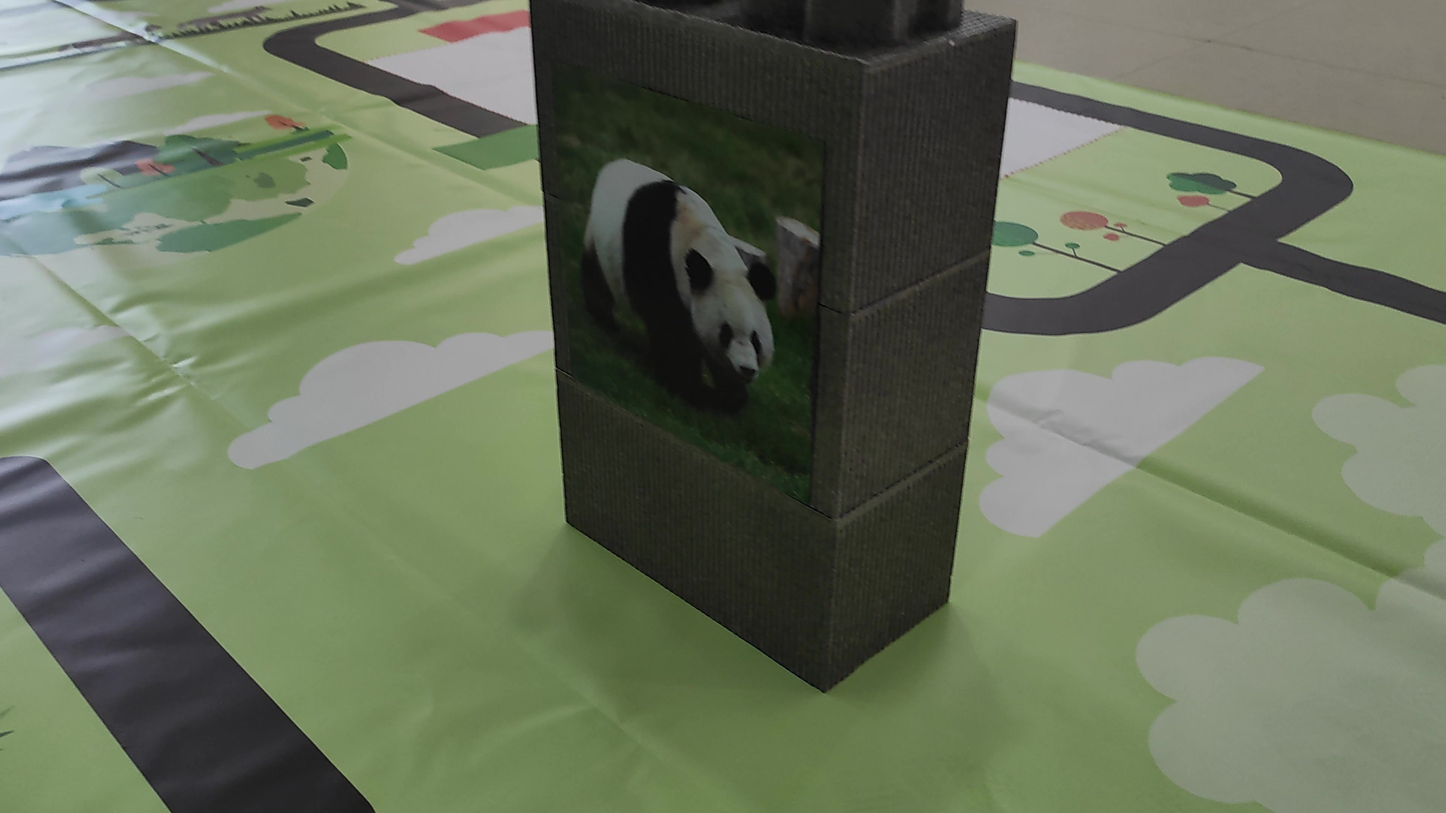panda: (567, 149, 790, 434)
